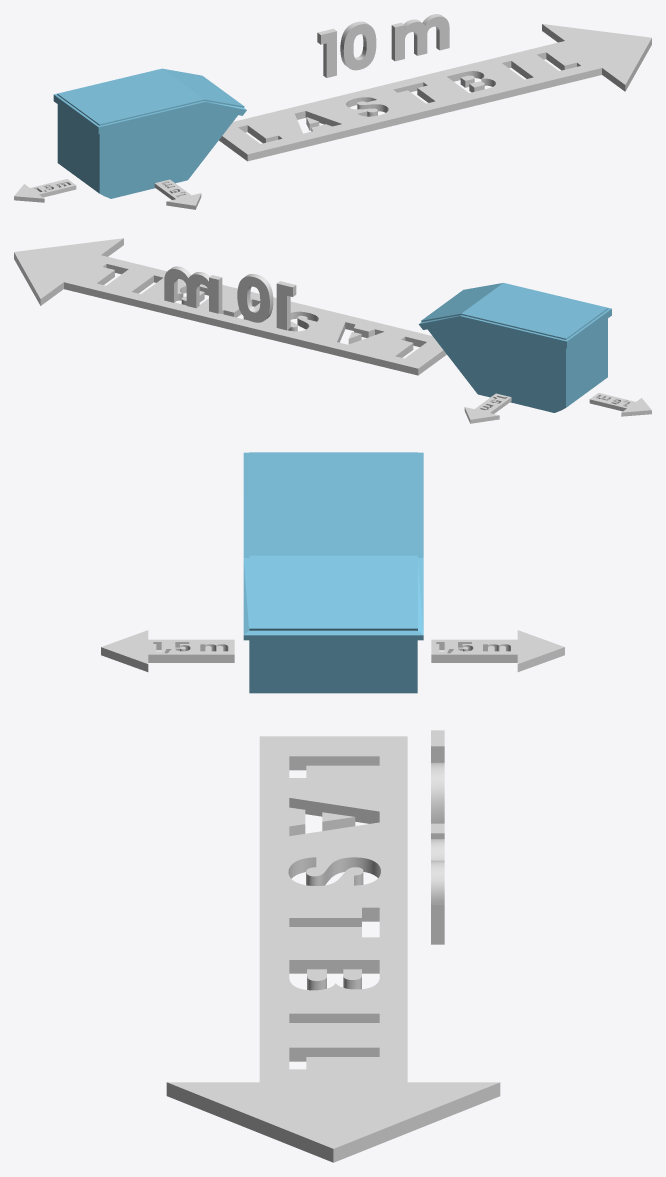
3 renders of one model, top to bottom at view 1: azimuth 30°, elevation 25°; view 2: azimuth 150°, elevation 25°; view 3: azimuth 270°, elevation 25°, orthographic. The views are drawn at different scales.
Visible parts, largest first — view 1: Cube.4, Plane.029, Text.4, m, Plane.4 (×2), B, S, A; view 2: Cube.4, Plane.029, Text.4, m, Plane.4 (×2), A, S; view 3: Plane.029, Cube.4, Plane.4 (×2), L (×2), m, A, B, S, Text.4.
Part boxes in pixels (<box>): Cube.4: <box>53,68,246,198</box>; Plane.029: <box>219,24,651,161</box>; Text.4: <box>317,21,376,77</box>; m: <box>391,14,449,61</box>; Plane.4 (×2): <box>14,179,201,209</box>; B: <box>447,71,495,92</box>; S: <box>346,97,388,116</box>; A: <box>295,111,341,131</box>; Cube.4: <box>418,283,611,412</box>; Plane.029: <box>14,238,446,375</box>; Text.4: <box>237,274,296,330</box>; m: <box>164,266,222,313</box>; Plane.4 (×2): <box>464,393,651,423</box>; A: <box>337,322,383,344</box>; S: <box>288,311,318,331</box>; Plane.029: <box>166,736,500,1162</box>; Cube.4: <box>243,452,423,693</box>; Plane.4 (×2): <box>101,630,564,671</box>; L (×2): <box>289,756,379,1061</box>; m: <box>431,823,444,944</box>; A: <box>289,798,379,835</box>; B: <box>289,960,379,990</box>; S: <box>288,857,380,885</box>; Text.4: <box>431,730,444,823</box>.
Bounding box in the file's own units: 1625 × 188 × 512.
